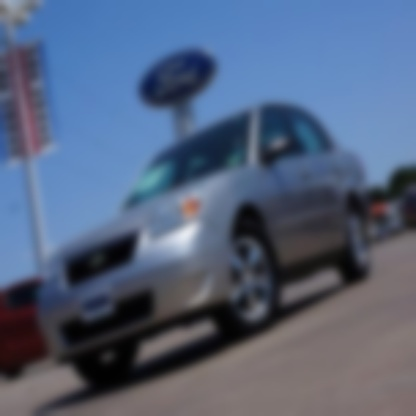Vehicle: (38, 104, 374, 390)
